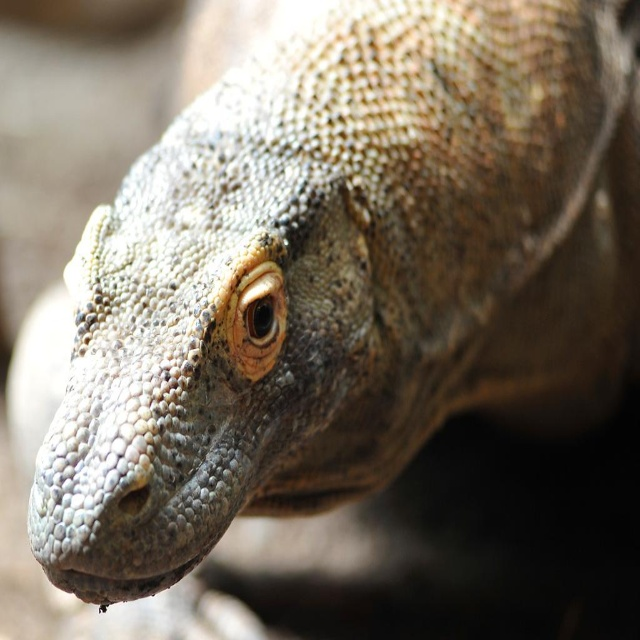Lizard: (26, 0, 638, 610)
